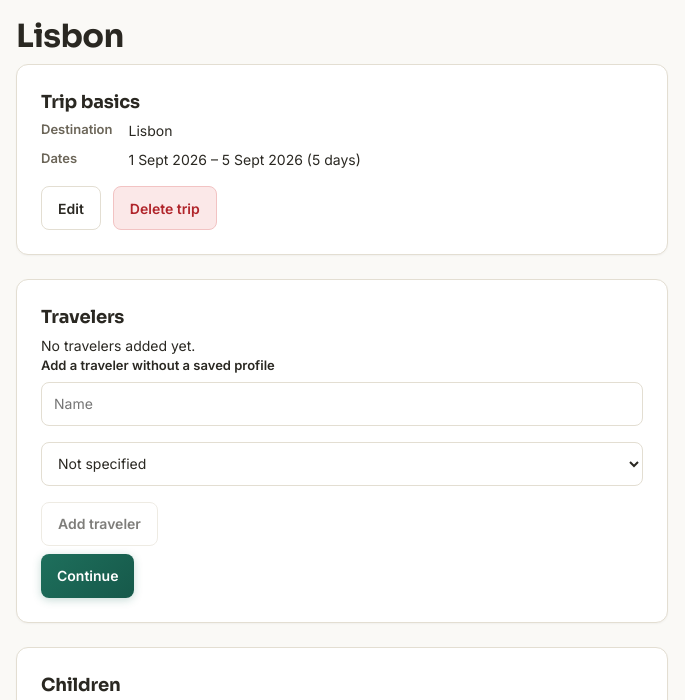
Scenario: TripWizardPage › resumes on the summary for an already-completed trip and allows editing
The image size is (685, 700).
Expected: the heading "Lisbon" is shown, [16,16,124,56]
Click the button "Edit".
click(71, 208)  # box [41,186,101,230]
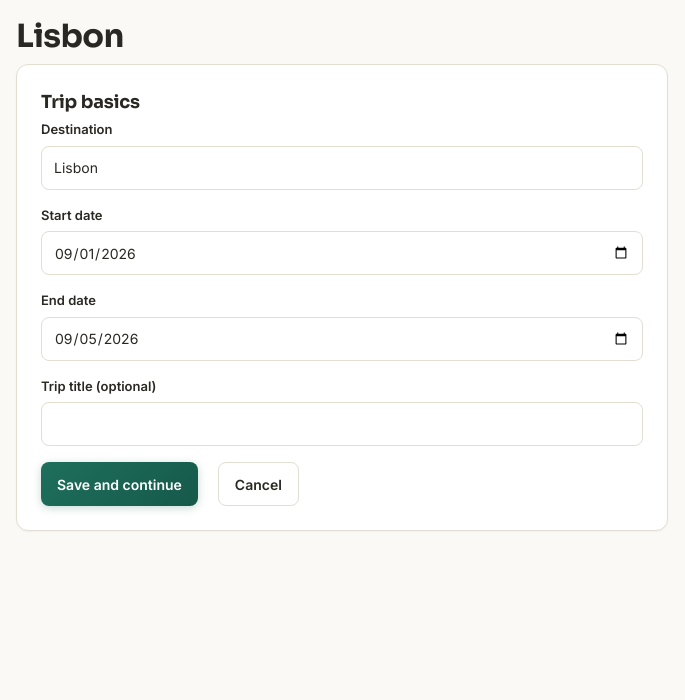
Result: the field labelled "Destination" holds "Lisbon" at [41,146,643,190]
